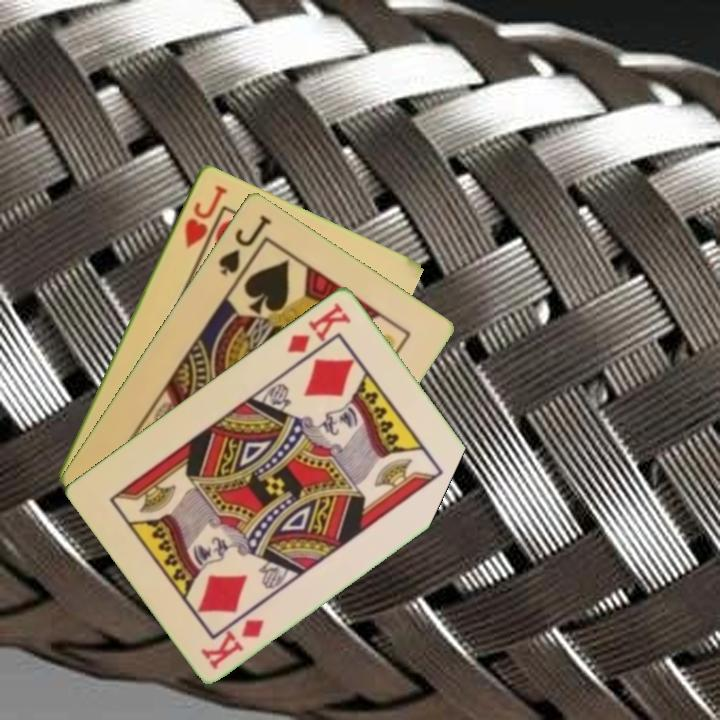Jh: (180, 181, 230, 251)
Js: (214, 210, 275, 278)
Kd: (283, 298, 354, 356), (197, 614, 268, 672)
